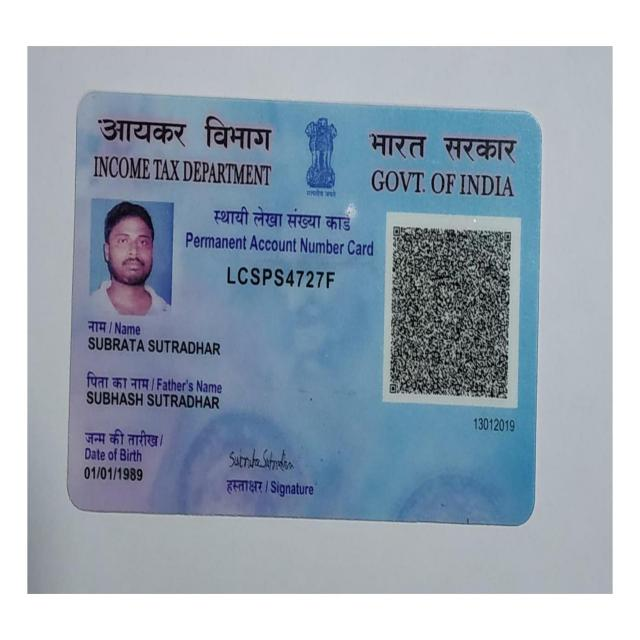pan_card: (70, 95, 532, 515)
